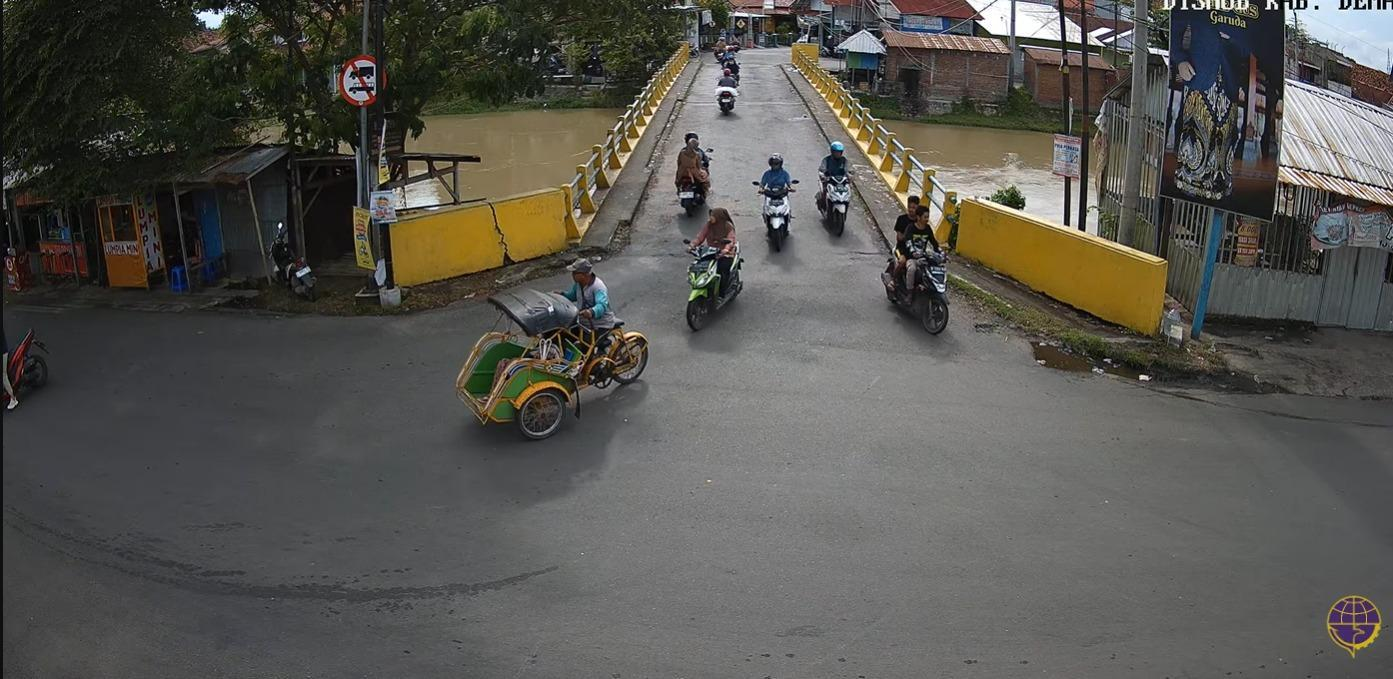Helmet: (768, 153, 782, 168), (684, 131, 698, 142), (830, 141, 844, 151), (723, 68, 731, 75)
Number Plate: (295, 266, 310, 277), (679, 191, 694, 198)
